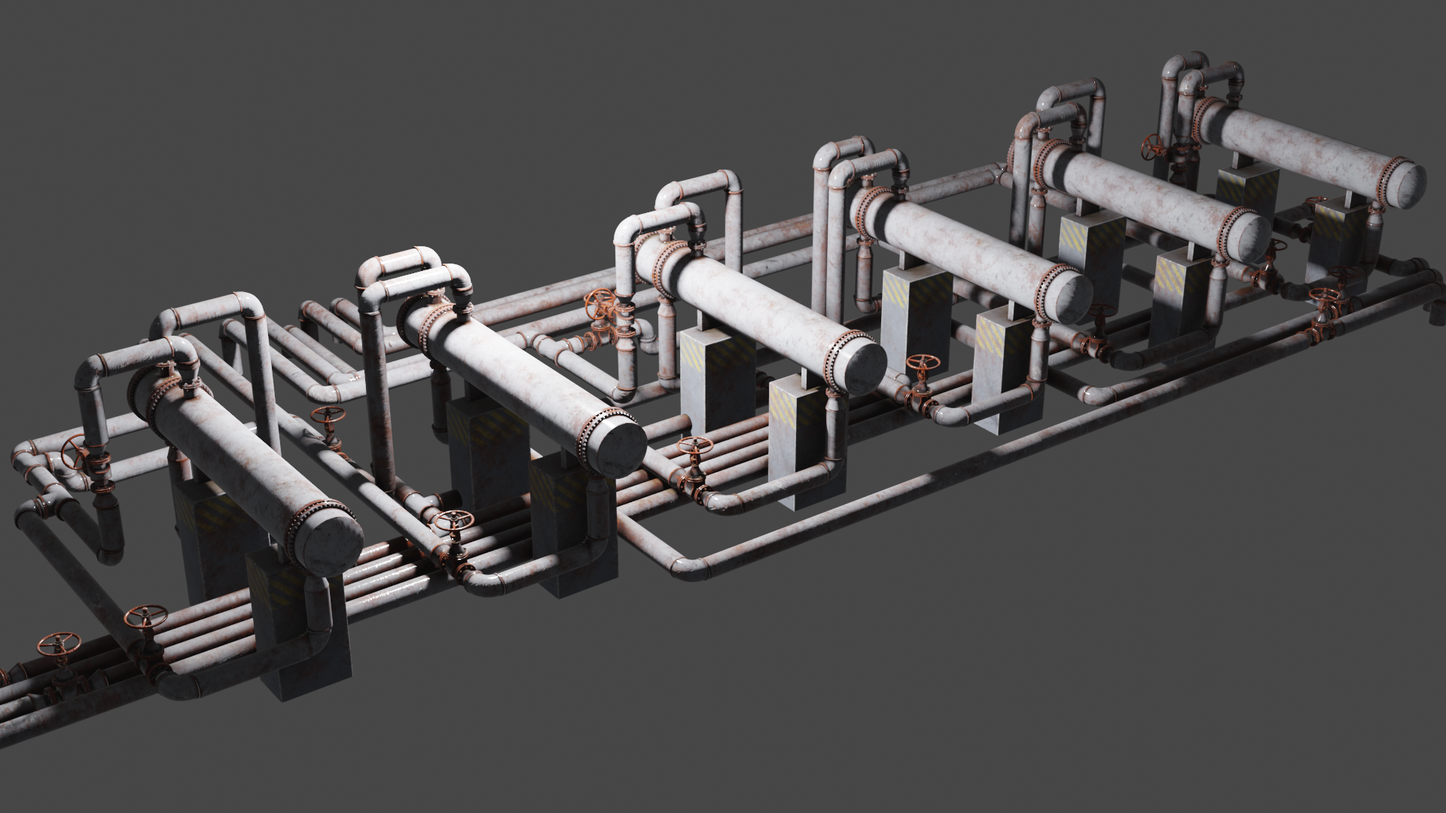HE_1: (1195, 89, 1423, 205)
HE_2: (1009, 130, 1267, 258)
HE_3: (847, 176, 1086, 322)
HE_4: (632, 226, 888, 393)
HE_5: (391, 294, 648, 476)
HE_6: (122, 357, 366, 574)
